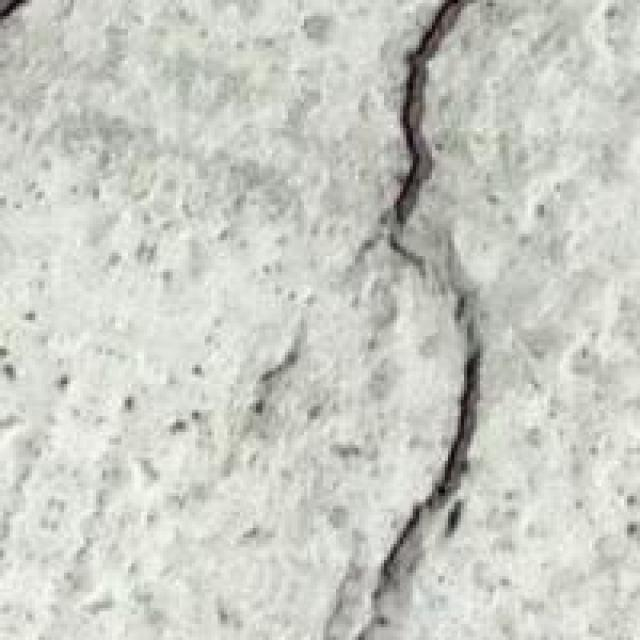Crack: (346, 0, 515, 637)
